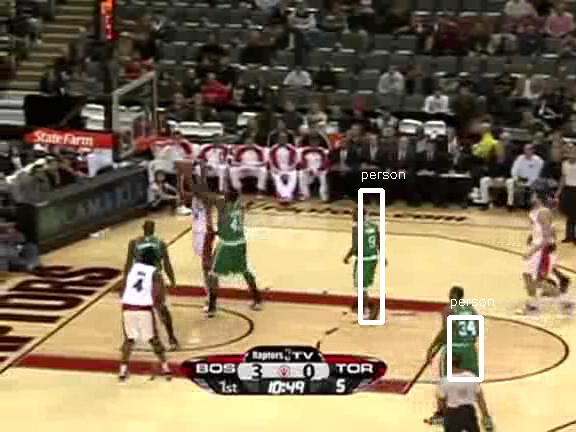person: (352, 213, 386, 294), (351, 213, 385, 294), (353, 213, 387, 294), (352, 212, 386, 293), (352, 214, 386, 295)
target_negative: (75, 207, 189, 410), (277, 271, 501, 346), (65, 183, 121, 383), (245, 160, 324, 221), (85, 242, 108, 429), (20, 421, 353, 423)
